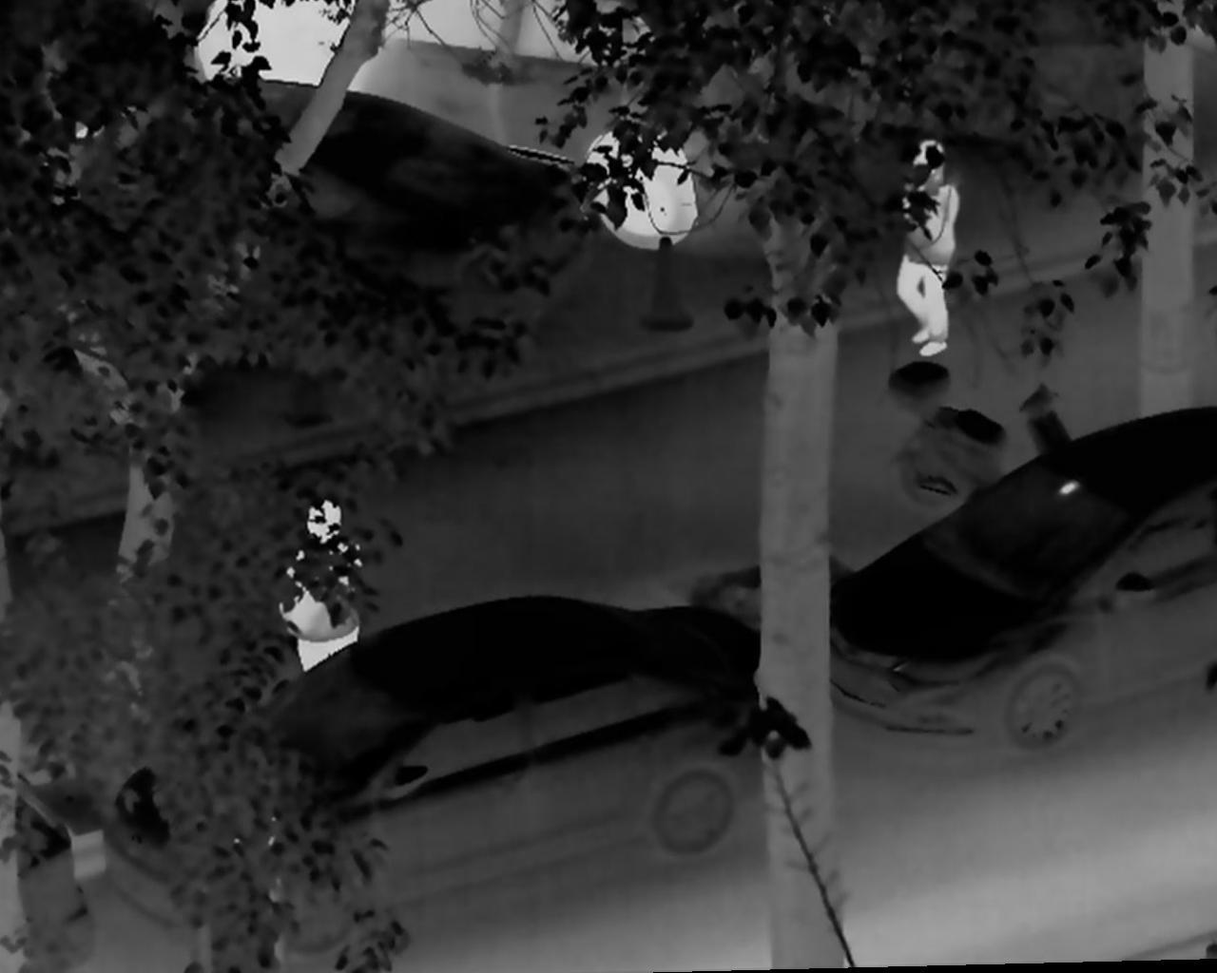person: (263, 497, 370, 681), (888, 136, 963, 362)
